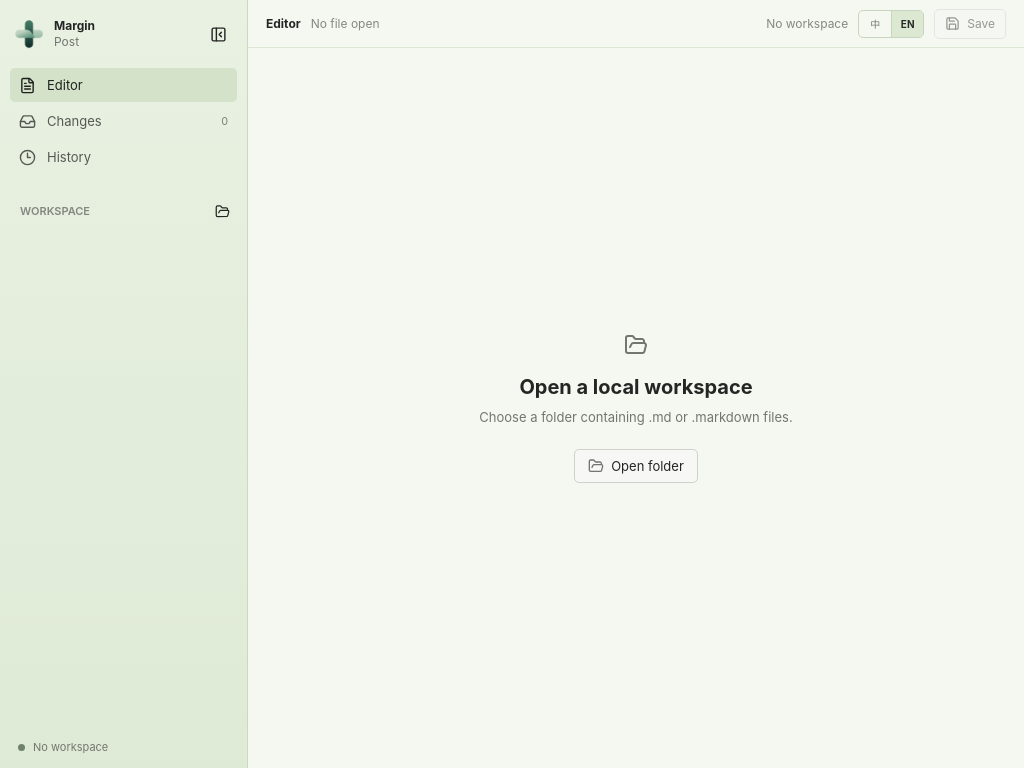
App › discards an inapplicable change set without touching the file
Click the button with aria-label "Open Markdown Workspace": (636, 466) [574, 449, 698, 483]
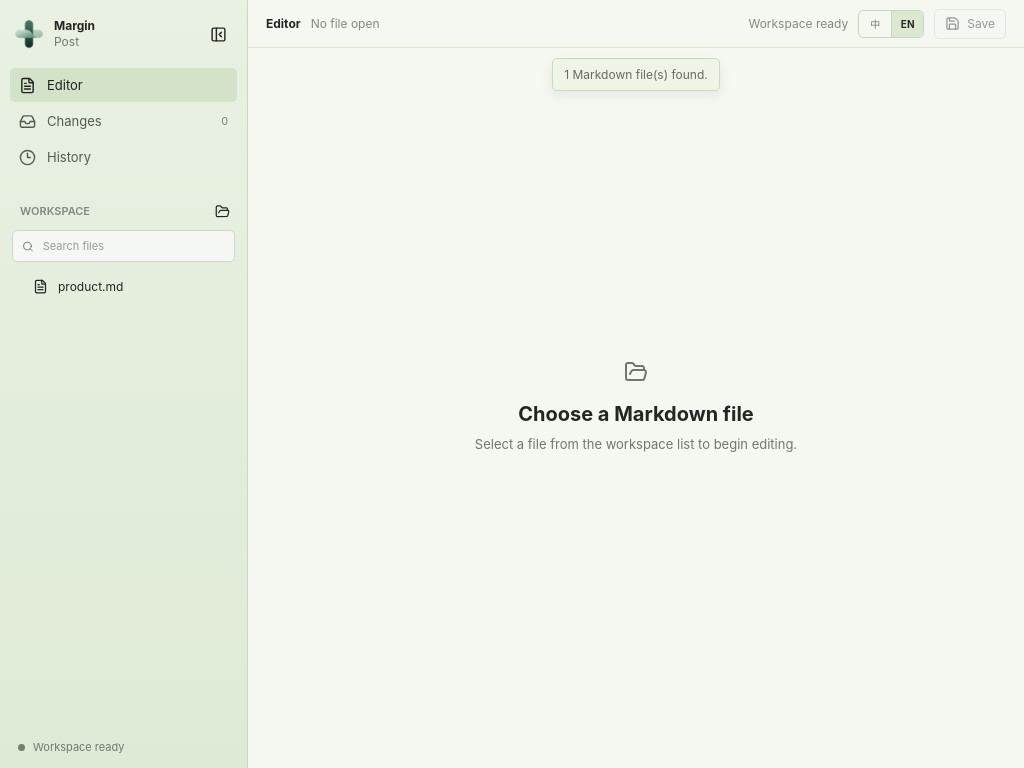
Click the button "Changes 0": (124, 121) [10, 104, 237, 138]
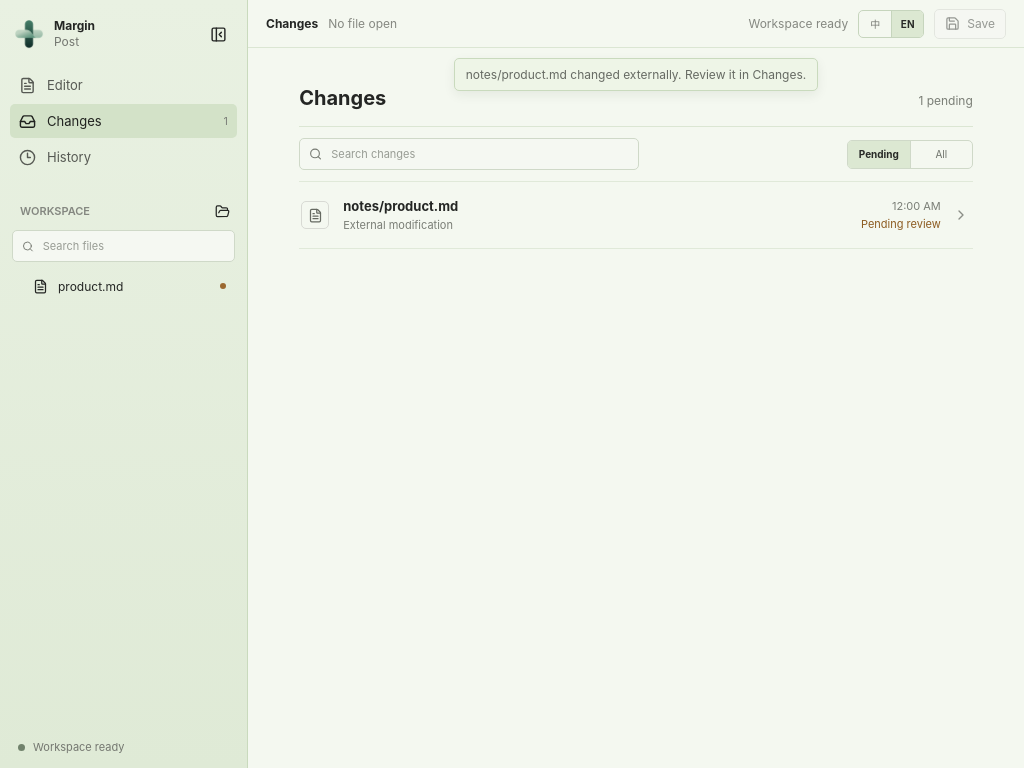
Click the button with aria-label "Review notes/product.md": (401, 206) [299, 182, 973, 249]
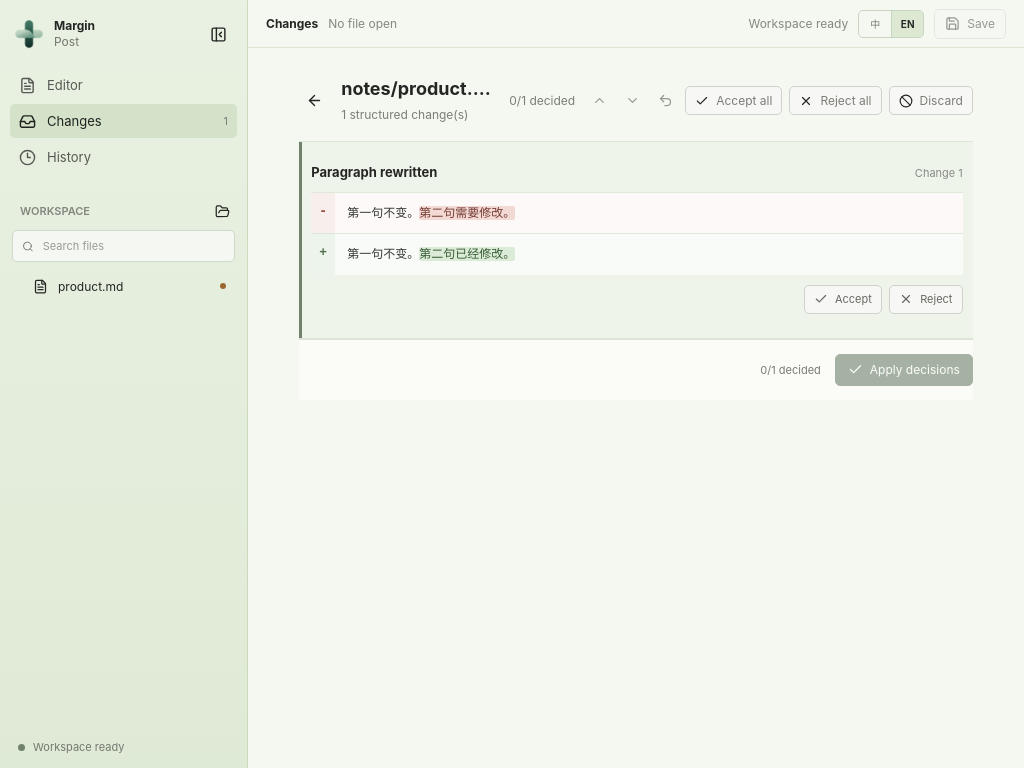
Click the button "Discard": (931, 100) [888, 86, 973, 115]
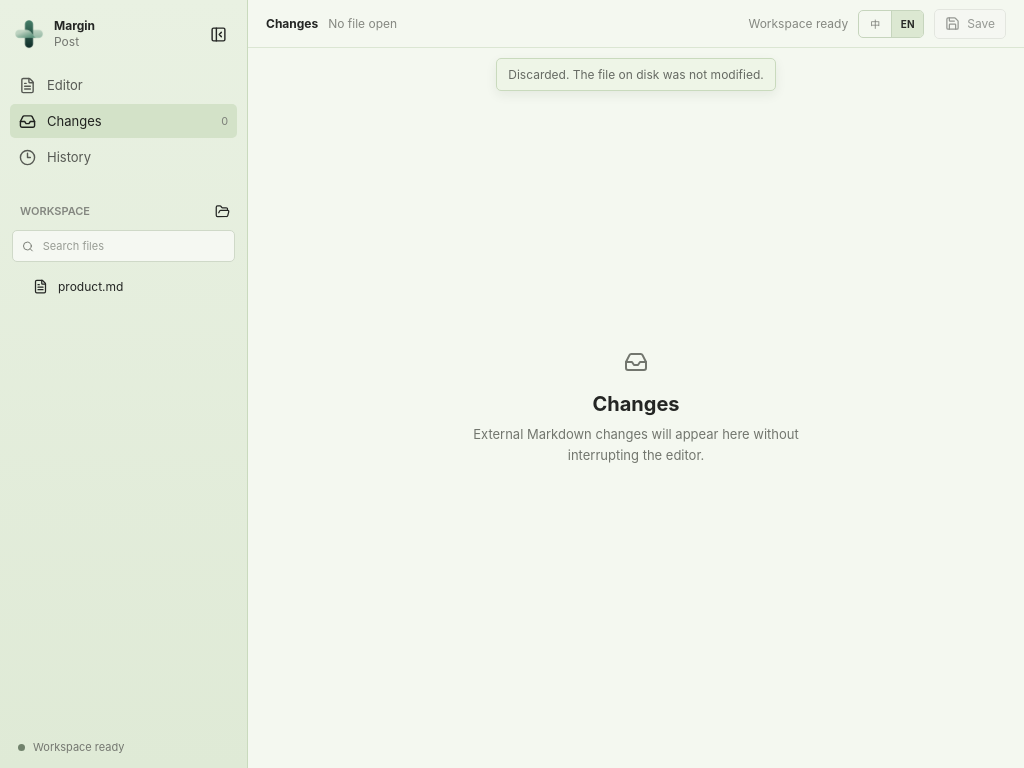
Result: the text "Discarded. The file on disk was not modified." is shown at [508, 67, 764, 82]
